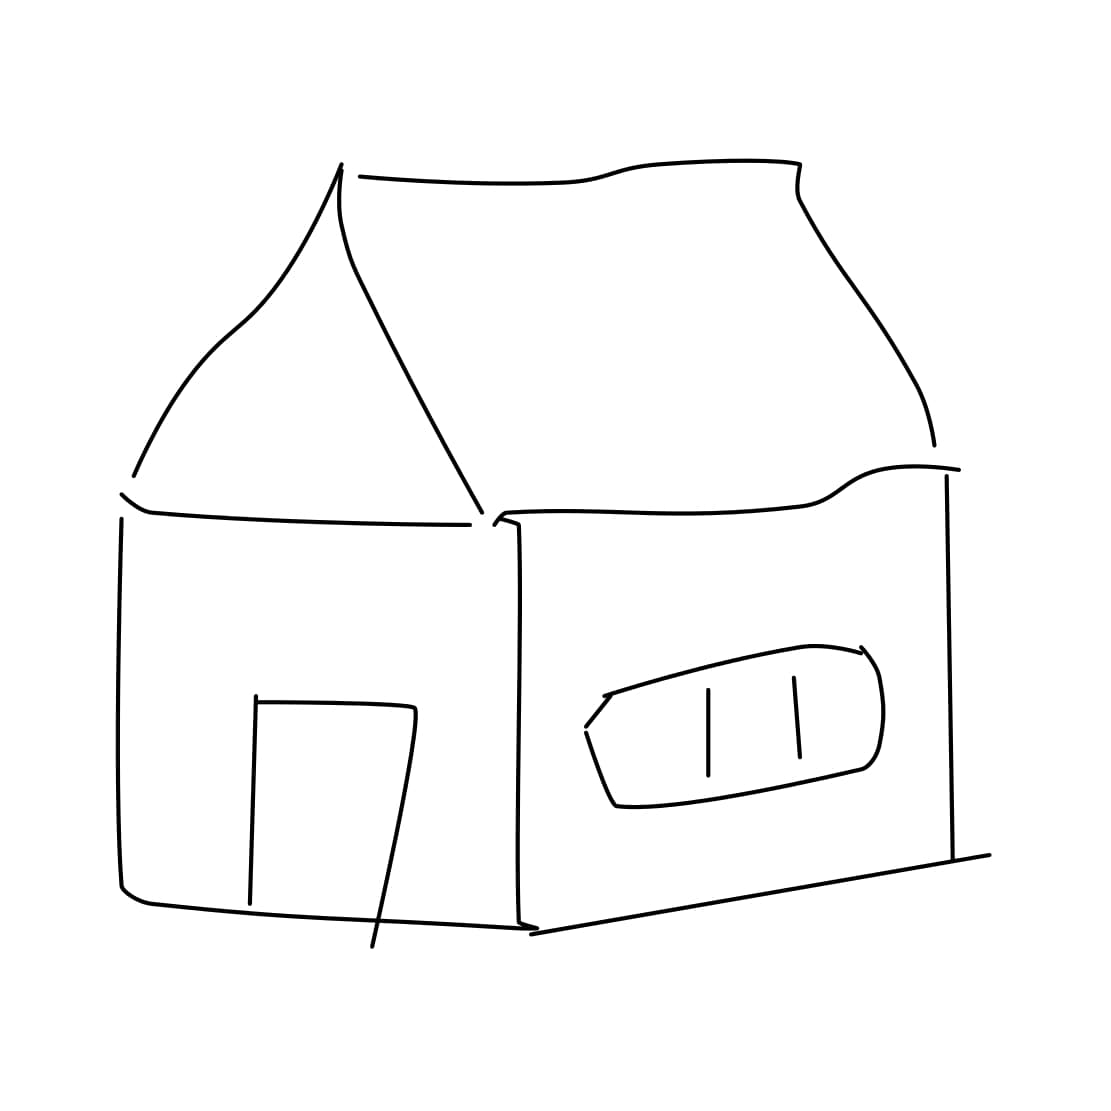House: (62, 96, 1024, 955)
